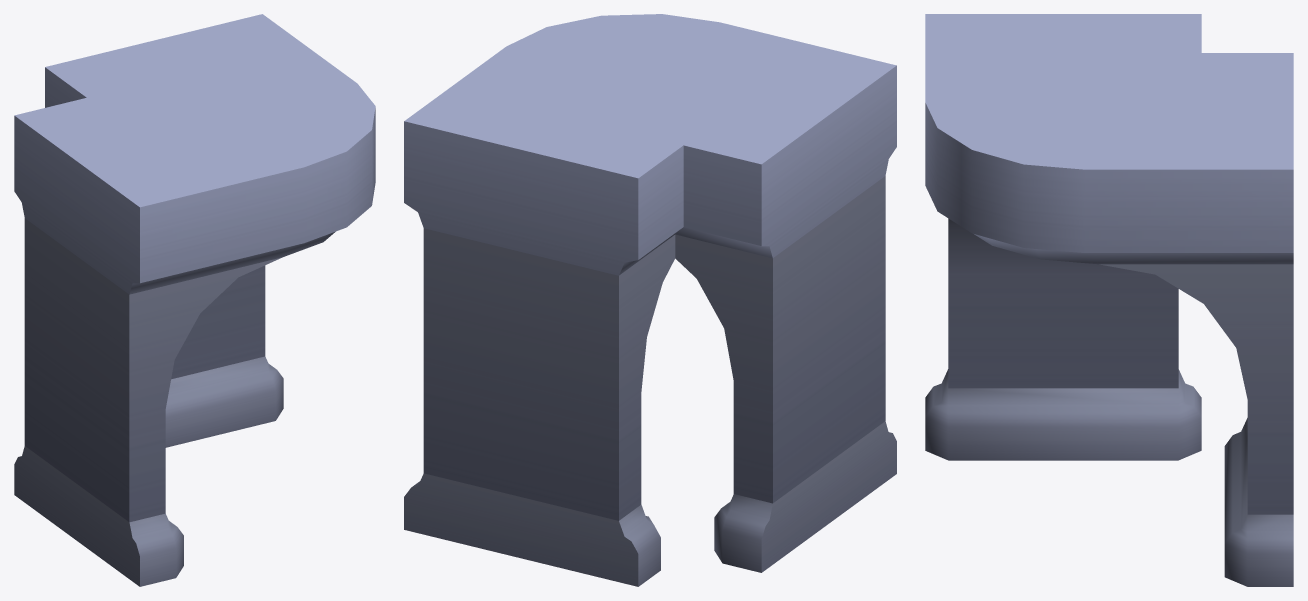
3 views of the same model, side by side, from view 1: azimuth 30°, elevation 25°; view 2: azimuth 150°, elevation 25°; view 3: azimuth 270°, elevation 25° (orthographic). The views are drawn at different scales.
Visible parts, largest first — view 1: wall_corner; view 2: wall_corner; view 3: wall_corner.
Boxes of the visible parts, box(x1,y1,x2,y2) form: wall_corner: box(14, 14, 375, 586); wall_corner: box(404, 14, 896, 586); wall_corner: box(925, 14, 1293, 586).
Size of the model in its own units: 0.8 by 1 by 0.8.
Materials: 1 (1 with a texture image).
